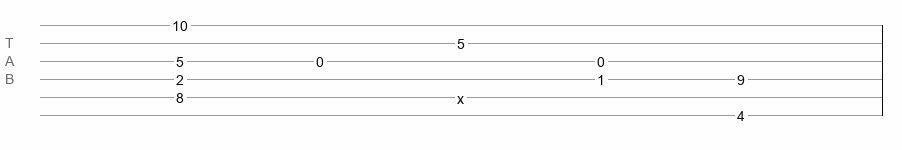0: (316, 54, 324, 64), (597, 54, 605, 64)
1: (597, 72, 605, 82)
10: (172, 18, 188, 28)
2: (176, 72, 184, 82)
4: (737, 108, 745, 118)
5: (176, 54, 184, 64), (457, 36, 465, 46)
8: (176, 90, 184, 100)
9: (737, 72, 745, 82)
x: (457, 91, 464, 99)
